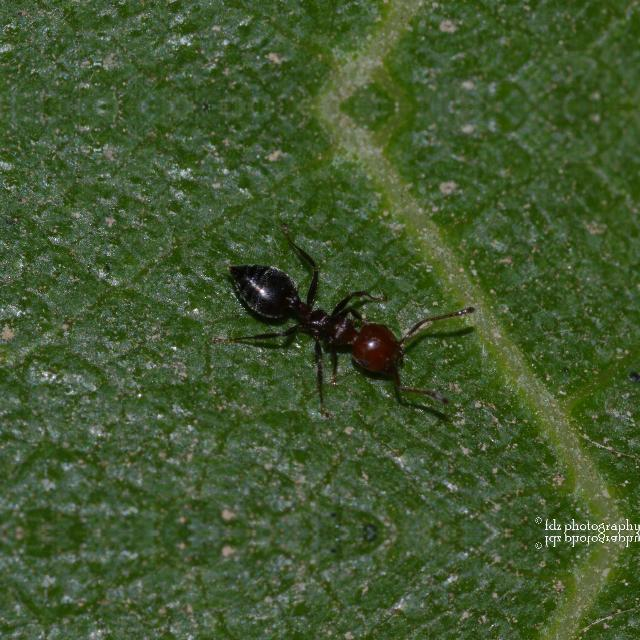Crematogaster: (218, 248, 432, 388)
